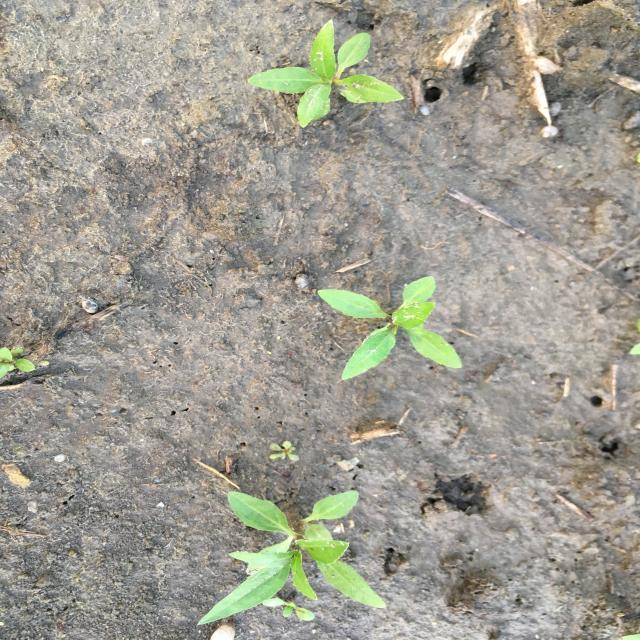Eclipta: (193, 489, 390, 627), (245, 18, 407, 129), (316, 275, 464, 381)
